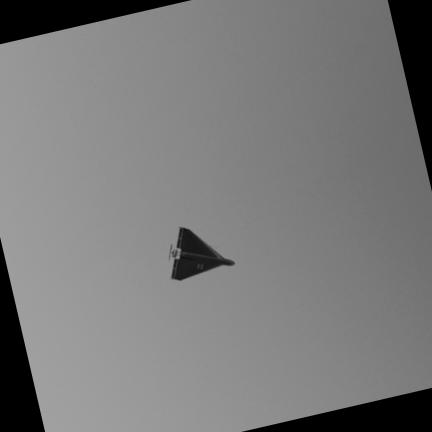Shahed: (169, 229, 233, 280)
